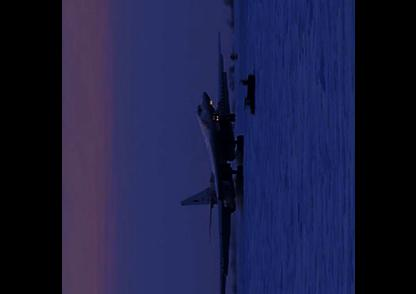Su34: (179, 30, 243, 293)
